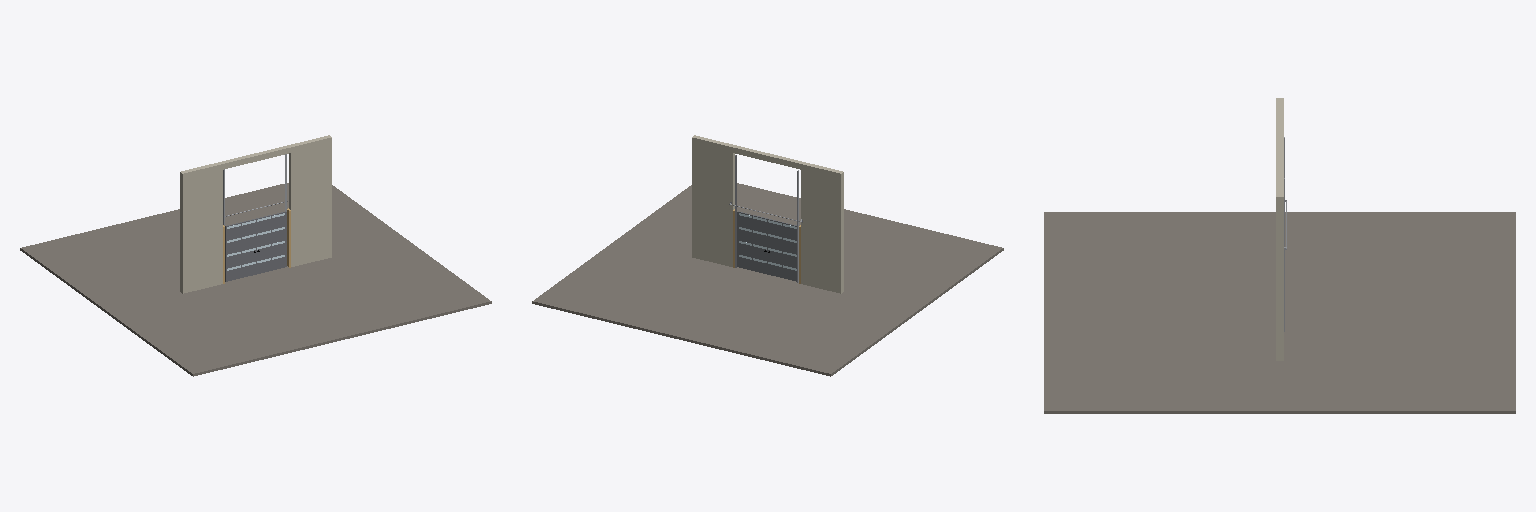
The robot description file, URDF, robot "db0806_garage_sectional_simple":
<?xml version="1.0" ?>
<robot xmlns:doorbench="https://github.com/adamraudonis/DoorBench/schema/urdf-ext" name="db0806_garage_sectional_simple">
  <link name="world_env">
    <visual name="floor_vis">
      <origin xyz="0 0 -0.05" rpy="0 0 0"/>
      <geometry>
        <box size="12 12 0.1"/>
      </geometry>
      <material name="mat_floor"/>
    </visual>
    <collision name="floor_col">
      <origin xyz="0 0 -0.05" rpy="0 0 0"/>
      <geometry>
        <box size="12 12 0.1"/>
      </geometry>
    </collision>
    <visual name="wall_left_vis">
      <origin xyz="-2.1825 0 2.305" rpy="0 0 0"/>
      <geometry>
        <box size="1.635 0.2 4.61"/>
      </geometry>
      <material name="mat_wall"/>
    </visual>
    <collision name="wall_left_col">
      <origin xyz="-2.1825 0 2.305" rpy="0 0 0"/>
      <geometry>
        <box size="1.635 0.2 4.61"/>
      </geometry>
    </collision>
    <visual name="wall_right_vis">
      <origin xyz="2.1825 0 2.305" rpy="0 0 0"/>
      <geometry>
        <box size="1.635 0.2 4.61"/>
      </geometry>
      <material name="mat_wall"/>
    </visual>
    <collision name="wall_right_col">
      <origin xyz="2.1825 0 2.305" rpy="0 0 0"/>
      <geometry>
        <box size="1.635 0.2 4.61"/>
      </geometry>
    </collision>
    <visual name="wall_header_vis">
      <origin xyz="0 0 4.5" rpy="0 0 0"/>
      <geometry>
        <box size="2.73 0.2 0.22"/>
      </geometry>
      <material name="mat_wall"/>
    </visual>
    <collision name="wall_header_col">
      <origin xyz="0 0 4.5" rpy="0 0 0"/>
      <geometry>
        <box size="2.73 0.2 0.22"/>
      </geometry>
    </collision>
    <visual name="garage_jamb_l_vis">
      <origin xyz="-1.325 0 1.09" rpy="0 0 0"/>
      <geometry>
        <box size="0.08 0.2 2.18"/>
      </geometry>
      <material name="mat_frame"/>
    </visual>
    <collision name="garage_jamb_l_col">
      <origin xyz="-1.325 0 1.09" rpy="0 0 0"/>
      <geometry>
        <box size="0.08 0.2 2.18"/>
      </geometry>
    </collision>
    <visual name="garage_jamb_r_vis">
      <origin xyz="1.325 0 1.09" rpy="0 0 0"/>
      <geometry>
        <box size="0.08 0.2 2.18"/>
      </geometry>
      <material name="mat_frame"/>
    </visual>
    <collision name="garage_jamb_r_col">
      <origin xyz="1.325 0 1.09" rpy="0 0 0"/>
      <geometry>
        <box size="0.08 0.2 2.18"/>
      </geometry>
    </collision>
    <visual name="track_l_vis">
      <origin xyz="-1.27 0.0825 2.155" rpy="0 0 0"/>
      <geometry>
        <box size="0.008 0.066 4.31"/>
      </geometry>
      <material name="mat_track"/>
    </visual>
    <collision name="track_l_col">
      <origin xyz="-1.27 0.0825 2.155" rpy="0 0 0"/>
      <geometry>
        <box size="0.008 0.066 4.31"/>
      </geometry>
    </collision>
    <visual name="track_l_flange_n_vis">
      <origin xyz="-1.252 0.0535 2.155" rpy="0 0 0"/>
      <geometry>
        <box size="0.044 0.008 4.31"/>
      </geometry>
      <material name="mat_track"/>
    </visual>
    <collision name="track_l_flange_n_col">
      <origin xyz="-1.252 0.0535 2.155" rpy="0 0 0"/>
      <geometry>
        <box size="0.044 0.008 4.31"/>
      </geometry>
    </collision>
    <visual name="track_l_flange_p_vis">
      <origin xyz="-1.252 0.1115 2.155" rpy="0 0 0"/>
      <geometry>
        <box size="0.044 0.008 4.31"/>
      </geometry>
      <material name="mat_track"/>
    </visual>
    <collision name="track_l_flange_p_col">
      <origin xyz="-1.252 0.1115 2.155" rpy="0 0 0"/>
      <geometry>
        <box size="0.044 0.008 4.31"/>
      </geometry>
    </collision>
    <visual name="track_r_vis">
      <origin xyz="1.27 0.0825 2.155" rpy="0 0 0"/>
      <geometry>
        <box size="0.008 0.066 4.31"/>
      </geometry>
      <material name="mat_track"/>
    </visual>
    <collision name="track_r_col">
      <origin xyz="1.27 0.0825 2.155" rpy="0 0 0"/>
      <geometry>
        <box size="0.008 0.066 4.31"/>
      </geometry>
    </collision>
    <visual name="track_r_flange_n_vis">
      <origin xyz="1.252 0.0535 2.155" rpy="0 0 0"/>
      <geometry>
        <box size="0.044 0.008 4.31"/>
      </geometry>
      <material name="mat_track"/>
    </visual>
    <collision name="track_r_flange_n_col">
      <origin xyz="1.252 0.0535 2.155" rpy="0 0 0"/>
      <geometry>
        <box size="0.044 0.008 4.31"/>
      </geometry>
    </collision>
    <visual name="track_r_flange_p_vis">
      <origin xyz="1.252 0.1115 2.155" rpy="0 0 0"/>
      <geometry>
        <box size="0.044 0.008 4.31"/>
      </geometry>
      <material name="mat_track"/>
    </visual>
    <collision name="track_r_flange_p_col">
      <origin xyz="1.252 0.1115 2.155" rpy="0 0 0"/>
      <geometry>
        <box size="0.044 0.008 4.31"/>
      </geometry>
    </collision>
    <visual name="torsion_shaft_vis">
      <origin xyz="0 0.17 2.43" rpy="0 1.570796 0"/>
      <geometry>
        <cylinder radius="0.013" length="2.95"/>
      </geometry>
      <material name="mat_track"/>
    </visual>
    <collision name="torsion_shaft_col">
      <origin xyz="0 0.17 2.43" rpy="0 1.570796 0"/>
      <geometry>
        <cylinder radius="0.013" length="2.95"/>
      </geometry>
    </collision>
    <visual name="torsion_bearing_plate_l_vis">
      <origin xyz="-1.425 0.104 2.43" rpy="0 0 0"/>
      <geometry>
        <box size="0.11 0.008 0.11"/>
      </geometry>
      <material name="mat_track"/>
    </visual>
    <visual name="torsion_bearing_arm_l_vis">
      <origin xyz="-1.425 0.139 2.43" rpy="0 0 0"/>
      <geometry>
        <box size="0.016 0.098 0.06"/>
      </geometry>
      <material name="mat_track"/>
    </visual>
    <visual name="torsion_bearing_plate_r_vis">
      <origin xyz="1.425 0.104 2.43" rpy="0 0 0"/>
      <geometry>
        <box size="0.11 0.008 0.11"/>
      </geometry>
      <material name="mat_track"/>
    </visual>
    <visual name="torsion_bearing_arm_r_vis">
      <origin xyz="1.425 0.139 2.43" rpy="0 0 0"/>
      <geometry>
        <box size="0.016 0.098 0.06"/>
      </geometry>
      <material name="mat_track"/>
    </visual>
  </link>
  <link name="door">
    <inertial>
      <origin xyz="0 0 1.071861" rpy="0 0 0"/>
      <mass value="55.844983"/>
      <inertia ixx="20.76544631" ixy="0" ixz="0" iyy="47.945511882" iyz="0" izz="27.207446534"/>
    </inertial>
    <visual name="section_0_slab_vis">
      <origin xyz="0 0 0.27625" rpy="0 0 0"/>
      <geometry>
        <box size="2.44 0.045 0.5325"/>
      </geometry>
      <material name="mat_section_0"/>
    </visual>
    <collision name="section_0_slab_col">
      <origin xyz="0 0 0.27625" rpy="0 0 0"/>
      <geometry>
        <box size="2.44 0.045 0.5325"/>
      </geometry>
    </collision>
    <visual name="section_0_glass_0_vis">
      <origin xyz="-0.8925 0 0.46795" rpy="0 0 0"/>
      <geometry>
        <box size="0.555 0.0466 0.0852"/>
      </geometry>
      <material name="mat_glass"/>
    </visual>
    <visual name="section_0_glass_1_vis">
      <origin xyz="-0.2975 0 0.46795" rpy="0 0 0"/>
      <geometry>
        <box size="0.555 0.0466 0.0852"/>
      </geometry>
      <material name="mat_glass"/>
    </visual>
    <visual name="section_0_glass_2_vis">
      <origin xyz="0.2975 0 0.46795" rpy="0 0 0"/>
      <geometry>
        <box size="0.555 0.0466 0.0852"/>
      </geometry>
      <material name="mat_glass"/>
    </visual>
    <visual name="section_0_glass_3_vis">
      <origin xyz="0.8925 0 0.46795" rpy="0 0 0"/>
      <geometry>
        <box size="0.555 0.0466 0.0852"/>
      </geometry>
      <material name="mat_glass"/>
    </visual>
    <visual name="section_1_slab_vis">
      <origin xyz="0 0 0.80875" rpy="0 0 0"/>
      <geometry>
        <box size="2.44 0.045 0.5325"/>
      </geometry>
      <material name="mat_section_1"/>
    </visual>
    <collision name="section_1_slab_col">
      <origin xyz="0 0 0.80875" rpy="0 0 0"/>
      <geometry>
        <box size="2.44 0.045 0.5325"/>
      </geometry>
    </collision>
    <visual name="section_1_glass_0_vis">
      <origin xyz="-0.8925 0 1.00045" rpy="0 0 0"/>
      <geometry>
        <box size="0.555 0.0466 0.0852"/>
      </geometry>
      <material name="mat_glass"/>
    </visual>
    <visual name="section_1_glass_1_vis">
      <origin xyz="-0.2975 0 1.00045" rpy="0 0 0"/>
      <geometry>
        <box size="0.555 0.0466 0.0852"/>
      </geometry>
      <material name="mat_glass"/>
    </visual>
    <visual name="section_1_glass_2_vis">
      <origin xyz="0.2975 0 1.00045" rpy="0 0 0"/>
      <geometry>
        <box size="0.555 0.0466 0.0852"/>
      </geometry>
      <material name="mat_glass"/>
    </visual>
    <visual name="section_1_glass_3_vis">
      <origin xyz="0.8925 0 1.00045" rpy="0 0 0"/>
      <geometry>
        <box size="0.555 0.0466 0.0852"/>
      </geometry>
      <material name="mat_glass"/>
    </visual>
    <visual name="section_2_slab_vis">
      <origin xyz="0 0 1.34125" rpy="0 0 0"/>
      <geometry>
        <box size="2.44 0.045 0.5325"/>
      </geometry>
      <material name="mat_section_2"/>
    </visual>
    <collision name="section_2_slab_col">
      <origin xyz="0 0 1.34125" rpy="0 0 0"/>
      <geometry>
        <box size="2.44 0.045 0.5325"/>
      </geometry>
    </collision>
    <visual name="section_2_glass_0_vis">
      <origin xyz="-0.8925 0 1.53295" rpy="0 0 0"/>
      <geometry>
        <box size="0.555 0.0466 0.0852"/>
      </geometry>
      <material name="mat_glass"/>
    </visual>
    <visual name="section_2_glass_1_vis">
      <origin xyz="-0.2975 0 1.53295" rpy="0 0 0"/>
      <geometry>
        <box size="0.555 0.0466 0.0852"/>
      </geometry>
      <material name="mat_glass"/>
    </visual>
    <visual name="section_2_glass_2_vis">
      <origin xyz="0.2975 0 1.53295" rpy="0 0 0"/>
      <geometry>
        <box size="0.555 0.0466 0.0852"/>
      </geometry>
      <material name="mat_glass"/>
    </visual>
    <visual name="section_2_glass_3_vis">
      <origin xyz="0.8925 0 1.53295" rpy="0 0 0"/>
      <geometry>
        <box size="0.555 0.0466 0.0852"/>
      </geometry>
      <material name="mat_glass"/>
    </visual>
    <visual name="section_3_slab_vis">
      <origin xyz="0 0 1.87375" rpy="0 0 0"/>
      <geometry>
        <box size="2.44 0.045 0.5325"/>
      </geometry>
      <material name="mat_section_3"/>
    </visual>
    <collision name="section_3_slab_col">
      <origin xyz="0 0 1.87375" rpy="0 0 0"/>
      <geometry>
        <box size="2.44 0.045 0.5325"/>
      </geometry>
    </collision>
    <visual name="section_3_glass_0_vis">
      <origin xyz="-0.8925 0 2.06545" rpy="0 0 0"/>
      <geometry>
        <box size="0.555 0.0466 0.0852"/>
      </geometry>
      <material name="mat_glass"/>
    </visual>
    <visual name="section_3_glass_1_vis">
      <origin xyz="-0.2975 0 2.06545" rpy="0 0 0"/>
      <geometry>
        <box size="0.555 0.0466 0.0852"/>
      </geometry>
      <material name="mat_glass"/>
    </visual>
    <visual name="section_3_glass_2_vis">
      <origin xyz="0.2975 0 2.06545" rpy="0 0 0"/>
      <geometry>
        <box size="0.555 0.0466 0.0852"/>
      </geometry>
      <material name="mat_glass"/>
    </visual>
    <visual name="section_3_glass_3_vis">
      <origin xyz="0.8925 0 2.06545" rpy="0 0 0"/>
      <geometry>
        <box size="0.555 0.0466 0.0852"/>
      </geometry>
      <material name="mat_glass"/>
    </visual>
    <visual name="lift_handle_n_vis">
      <origin xyz="0 -0.0225 0.9" rpy="1.570796 0 0"/>
      <geometry>
        <mesh filename="../../hardware/pull_bdc5e965ab.obj"/>
      </geometry>
      <material name="mat_op_black_matte_metal"/>
    </visual>
    <collision name="lift_handle_col_n_col">
      <origin xyz="0 -0.0725 0.9" rpy="0 0 0"/>
      <geometry>
        <box size="0.2 0.012 0.03"/>
      </geometry>
    </collision>
    <visual name="lift_handle_p_vis">
      <origin xyz="0 0.0225 0.9" rpy="-1.570796 0 0"/>
      <geometry>
        <mesh filename="../../hardware/pull_bdc5e965ab.obj"/>
      </geometry>
      <material name="mat_op_black_matte_metal"/>
    </visual>
    <collision name="lift_handle_col_p_col">
      <origin xyz="0 0.0725 0.9" rpy="0 0 0"/>
      <geometry>
        <box size="0.2 0.012 0.03"/>
      </geometry>
    </collision>
  </link>
  <joint name="door_slide" type="prismatic">
    <origin xyz="0 0 0" rpy="0 0 0"/>
    <parent link="world_env"/>
    <child link="door"/>
    <axis xyz="0 0 1"/>
    <limit lower="0" upper="2.08" effort="5000" velocity="10"/>
    <dynamics damping="4.792249" friction="35.597393"/>
  </joint>
  <material name="mat_floor">
    <color rgba="0.55 0.53 0.5 1"/>
  </material>
  <material name="mat_frame">
    <color rgba="0.82 0.7 0.5 1"/>
  </material>
  <material name="mat_glass">
    <color rgba="0.85 0.92 0.95 0.25"/>
  </material>
  <material name="mat_op_black_matte_metal">
    <color rgba="0.05 0.05 0.05 1"/>
  </material>
  <material name="mat_section_0">
    <color rgba="0.5 0.51 0.53 1"/>
  </material>
  <material name="mat_section_1">
    <color rgba="0.5 0.51 0.53 1"/>
  </material>
  <material name="mat_section_2">
    <color rgba="0.5 0.51 0.53 1"/>
  </material>
  <material name="mat_section_3">
    <color rgba="0.5 0.51 0.53 1"/>
  </material>
  <material name="mat_track">
    <color rgba="0.65 0.66 0.68 1"/>
  </material>
  <material name="mat_wall">
    <color rgba="0.78 0.76 0.7 1"/>
  </material>
</robot>

--- What the picture shows (computed from the rendered views, not written in the file) ---
3 views of the same robot in one strip: view 1: azimuth 30°, elevation 25°; view 2: azimuth 150°, elevation 25°; view 3: azimuth 270°, elevation 25° (orthographic).
Robot: db0806_garage_sectional_simple — 2 links, 1 joints (1 prismatic); root link world_env; default pose: all joints at 0.
Links seen in each view (by area): view 1: world_env, door; view 2: world_env, door; view 3: world_env.
Link boxes in pixels (bbox=[...]): world_env: bbox=[20, 135, 491, 376]; door: bbox=[225, 211, 286, 281]; world_env: bbox=[532, 135, 1003, 376]; door: bbox=[737, 211, 796, 281]; world_env: bbox=[1044, 98, 1515, 413].
Bounding box of the posed robot: 12 × 12 × 4.71 m (x, y, z).
2 mesh visuals loaded from 1 distinct referenced files (1 OBJ).
